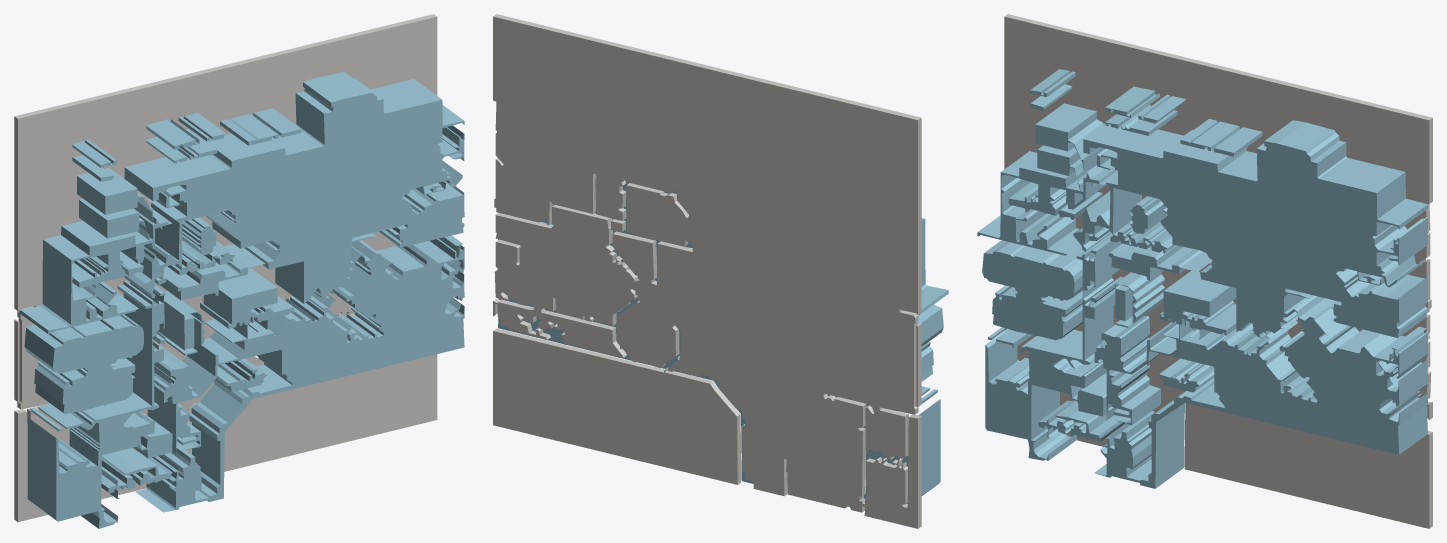
The picture shows the model from 3 angles, left to right: view 1: azimuth 30°, elevation 25°; view 2: azimuth 150°, elevation 25°; view 3: azimuth 330°, elevation 25°; orthographic projection.
Parts seen in each view (by area): view 1: world; view 2: world; view 3: world.
Part boxes in pixels (<box>): world: <box>14,14,464,528</box>; world: <box>493,14,948,528</box>; world: <box>977,14,1432,528</box>.
Bounding box in the file's own units: 10.23 × 9.4 × 1.35.
